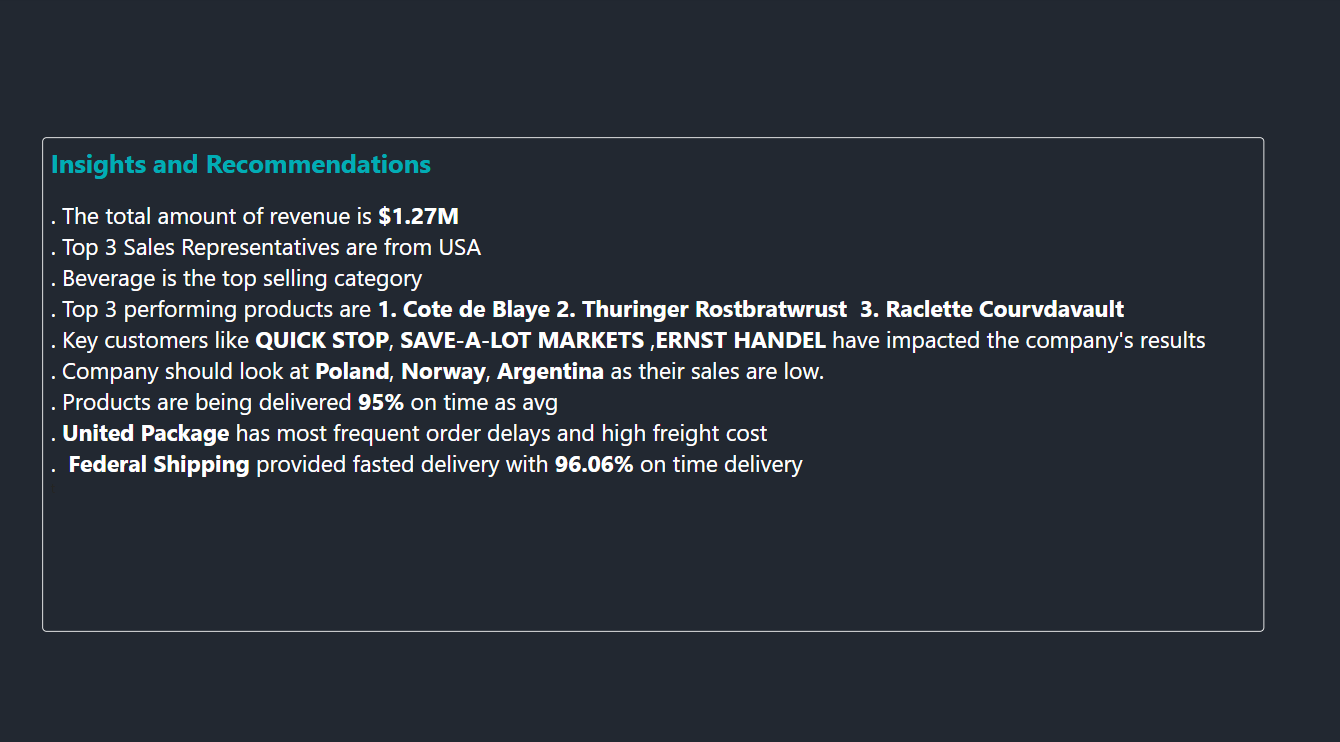

Layout of this report page (visuals, bound fields, positions):
{"tool":"powerbi","page":{"name":"Insights","canvas":[1280,720],"ordinal":4},"visuals":[{"type":"textbox","box":[47.7,131.9,1137,459.8],"z":0}]}

Visuals, with their boxes in screenshot pixels (x1, y1, x2, y2), scaled from the page's 1280x720 canvas onto the 1340x742 screenshot:
textbox: (50,136,1240,610)
